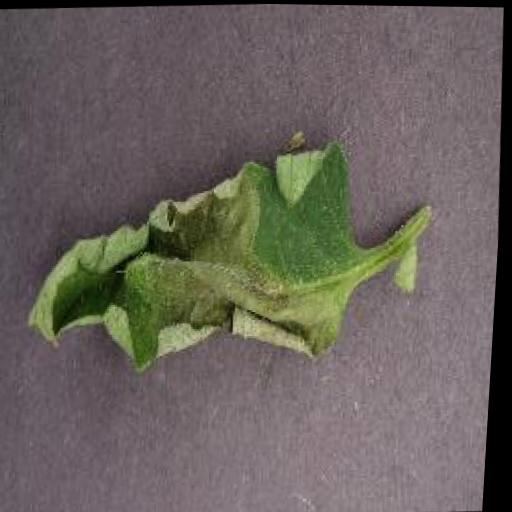Late Blight: (17, 132, 376, 384)
